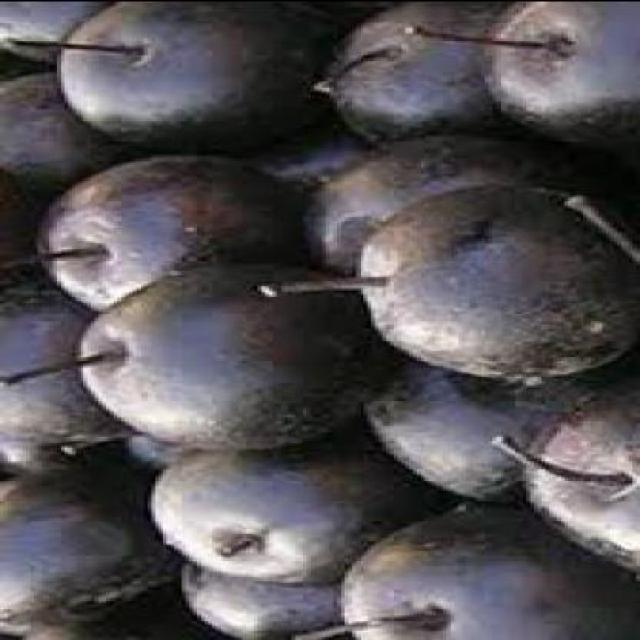BIODEGRADABLE: (72, 262, 379, 455), (356, 185, 636, 384), (348, 338, 626, 502), (53, 2, 333, 153), (34, 155, 295, 311), (332, 506, 637, 639), (300, 134, 568, 280), (147, 438, 390, 584), (318, 2, 518, 148), (0, 466, 160, 634), (522, 379, 636, 584), (477, 2, 637, 144), (0, 291, 98, 477), (171, 564, 346, 638), (0, 71, 95, 191), (0, 2, 91, 62)
